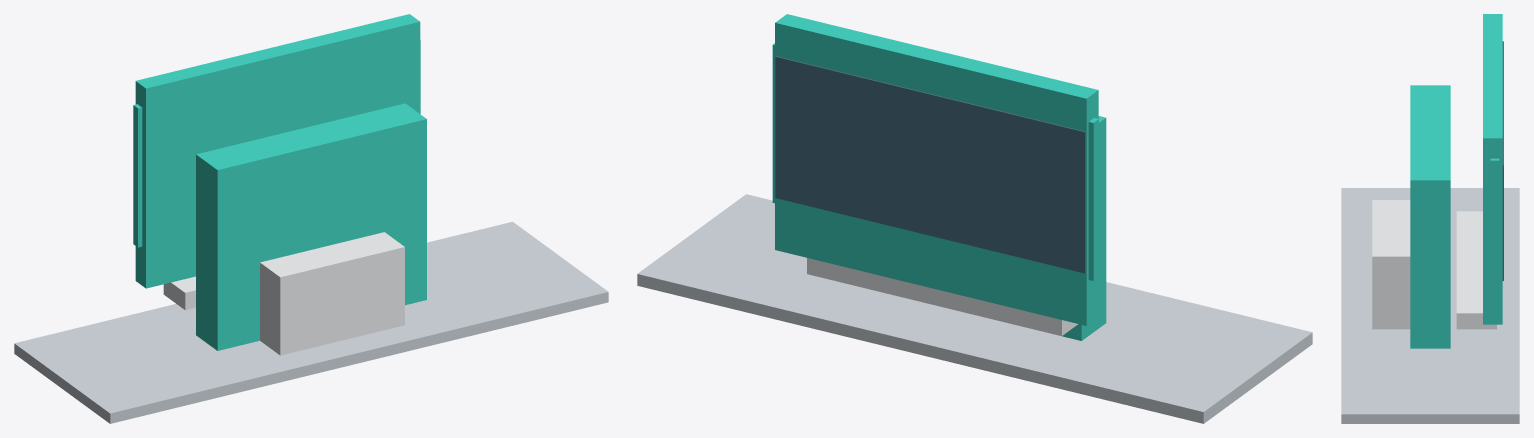
3 renders of one model, left to right at view 1: azimuth 30°, elevation 25°; view 2: azimuth 150°, elevation 25°; view 3: azimuth 270°, elevation 25°, orthographic. The views are drawn at different scales.
Visible parts, largest first — view 1: Exhibition Booth Concept; view 2: Exhibition Booth Concept; view 3: Exhibition Booth Concept.
Part boxes in pixels (x1=…): Exhibition Booth Concept: x1=14, y1=14, x2=608, y2=423; Exhibition Booth Concept: x1=637, y1=14, x2=1312, y2=423; Exhibition Booth Concept: x1=1341, y1=14, x2=1519, y2=423.
Bounding box in the file's own units: 6 × 2.9 × 2.
